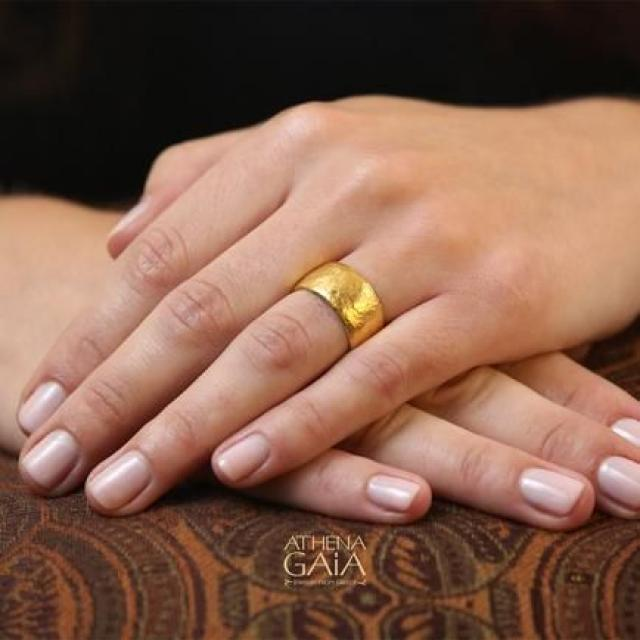Fingernail: (92, 450, 152, 511), (22, 430, 78, 494), (520, 465, 583, 515), (220, 434, 269, 482), (20, 381, 66, 431), (366, 474, 421, 511)
